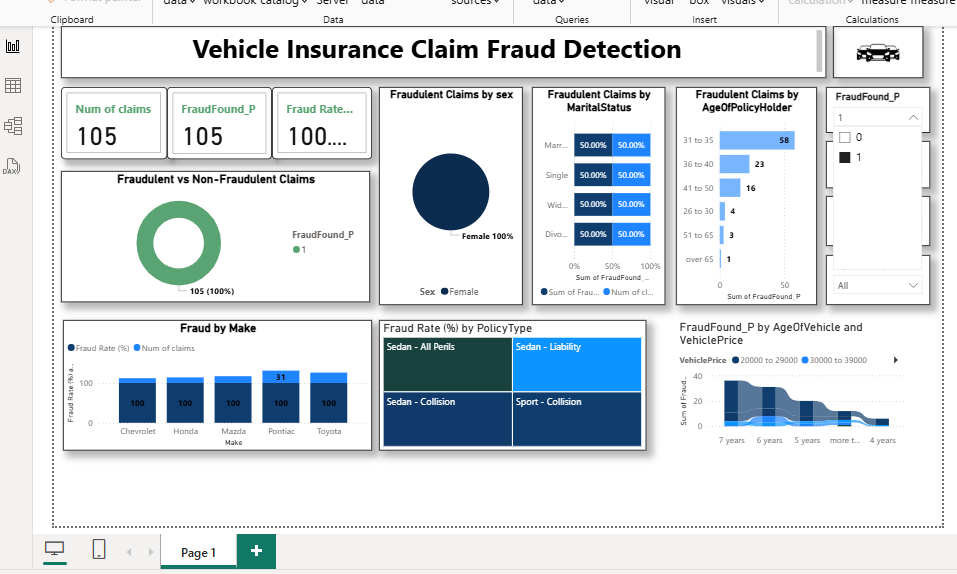

What the dashboard file says about the page in this screenshot:
{"tool":"powerbi","page":{"name":"Page 1","canvas":[1280,720],"ordinal":0},"visuals":[{"type":"textbox","box":[10.1,0,1101.6,74.9],"z":0},{"type":"image","box":[1121.8,0,129.6,74.9],"z":1000},{"type":"cardVisual","fields":{"Data":["fraud_oracle.Num of claims"]},"box":[10.1,87.8,152.6,103.7],"z":2000},{"type":"cardVisual","fields":{"Data":["Sum(fraud_oracle.FraudFound_P)"]},"box":[162.9,87.3,151.2,104.1],"z":3000},{"type":"cardVisual","fields":{"Data":["fraud_oracle.Fraud Rate (%)"]},"box":[313.9,87.8,144,103.7],"z":4000},{"type":"donutChart","title":"Fraudulent vs Non-Fraudulent Claims ","fields":{"Category":["fraud_oracle.FraudFound_P"],"Y":["fraud_oracle.Num of claims"]},"box":[10.1,208.8,445,188.6],"z":5000},{"type":"pieChart","title":"Fraudulent Claims by sex","fields":{"Category":["fraud_oracle.Sex"],"Y":["Sum(fraud_oracle.FraudFound_P)"]},"box":[468,87.8,207.4,313.9],"z":6000},{"type":"hundredPercentStackedBarChart","title":"Fraudulent Claims by MaritalStatus","fields":{"Category":["fraud_oracle.MaritalStatus"],"Y":["Sum(fraud_oracle.FraudFound_P)","fraud_oracle.Num of claims"]},"box":[688.3,87.8,191.5,313.9],"z":7000},{"type":"clusteredBarChart","title":"Fraudulent Claims by  AgeOfPolicyHolder","fields":{"Category":["fraud_oracle.AgeOfPolicyHolder"],"Y":["Sum(fraud_oracle.FraudFound_P)"]},"box":[895.7,87.8,203,313.9],"z":8000},{"type":"slicer","fields":{"Values":["fraud_oracle.FraudFound_P"]},"box":[1111.7,87.8,149.8,66.2],"z":9000},{"type":"slicer","fields":{"Values":["fraud_oracle.Sex"]},"box":[1111.7,165.6,149.8,67.7],"z":10000},{"type":"slicer","fields":{"Values":["fraud_oracle.MaritalStatus"]},"box":[1111.7,244.8,149.8,72],"z":11000},{"type":"slicer","fields":{"Values":["fraud_oracle.AgeOfPolicyHolder"]},"box":[1111.7,329.8,149.8,72],"z":12000},{"type":"columnChart","title":"Fraud by Make","fields":{"Category":["fraud_oracle.Make"],"Y":["fraud_oracle.Fraud Rate (%)","fraud_oracle.Num of claims"]},"box":[13.4,423.3,445.1,188.1],"z":13000},{"type":"treemap","fields":{"Group":["fraud_oracle.PolicyType"],"Values":["fraud_oracle.Fraud Rate (%)"]},"box":[468.7,423.3,384.7,188.1],"z":13001},{"type":"ribbonChart","title":" FraudFound_P by AgeOfVehicle and VehiclePrice","fields":{"Category":["fraud_oracle.AgeOfVehicle"],"Y":["Sum(fraud_oracle.FraudFound_P)"],"Series":["fraud_oracle.VehiclePrice"]},"box":[895.3,423.3,336,188.1],"z":13002}]}

Visuals, with their boxes on the page's 1280x720 design canvas (x1, y1, x2, y2). These are canvas units, not pixel positions in the 957x574 screenshot, which may show the page scaled, cropped or inside an application window:
textbox: BBox(10, 0, 1112, 75)
image: BBox(1122, 0, 1251, 75)
cardVisual - fraud_oracle.Num of claims: BBox(10, 88, 163, 192)
cardVisual - Sum(fraud_oracle.FraudFound_P): BBox(163, 87, 314, 191)
cardVisual - fraud_oracle.Fraud Rate (%): BBox(314, 88, 458, 192)
"Fraudulent vs Non-Fraudulent Claims " donutChart: BBox(10, 209, 455, 397)
"Fraudulent Claims by sex" pieChart: BBox(468, 88, 675, 402)
"Fraudulent Claims by MaritalStatus" hundredPercentStackedBarChart: BBox(688, 88, 880, 402)
"Fraudulent Claims by  AgeOfPolicyHolder" clusteredBarChart: BBox(896, 88, 1099, 402)
slicer - fraud_oracle.FraudFound_P: BBox(1112, 88, 1262, 154)
slicer - fraud_oracle.Sex: BBox(1112, 166, 1262, 233)
slicer - fraud_oracle.MaritalStatus: BBox(1112, 245, 1262, 317)
slicer - fraud_oracle.AgeOfPolicyHolder: BBox(1112, 330, 1262, 402)
"Fraud by Make" columnChart: BBox(13, 423, 458, 611)
treemap - fraud_oracle.PolicyType x fraud_oracle.Fraud Rate (%): BBox(469, 423, 853, 611)
" FraudFound_P by AgeOfVehicle and VehiclePrice" ribbonChart: BBox(895, 423, 1231, 611)
